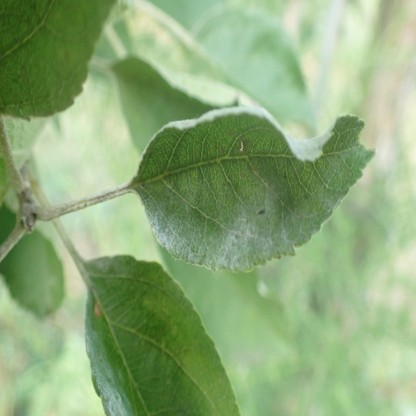frogeye_leaf_spot: (94, 302, 100, 315)
powdery_mildew: (143, 176, 293, 270), (85, 331, 126, 416), (318, 192, 337, 210), (95, 258, 112, 272)
